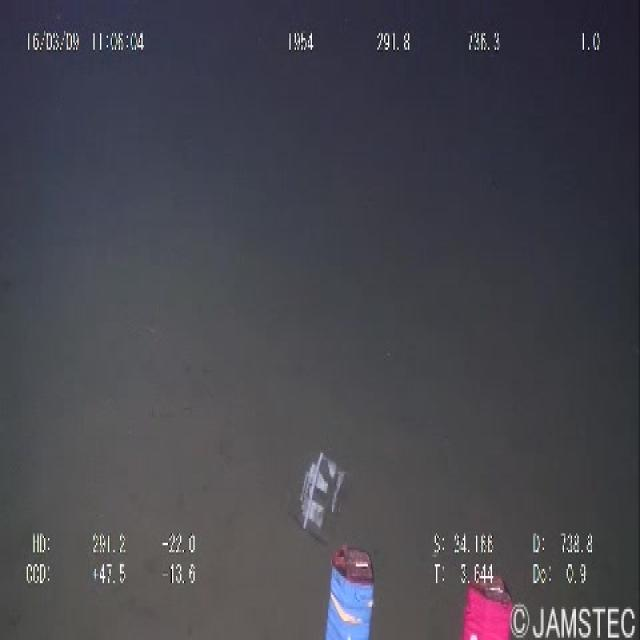plastic: (294, 441, 349, 543)
